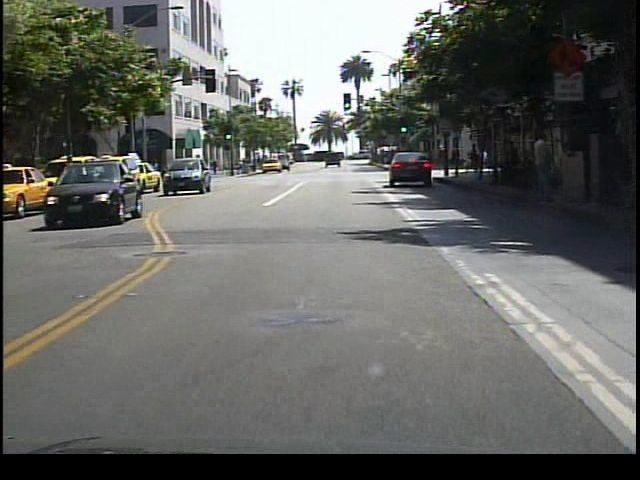person: (528, 128, 558, 208), (59, 148, 81, 208)
